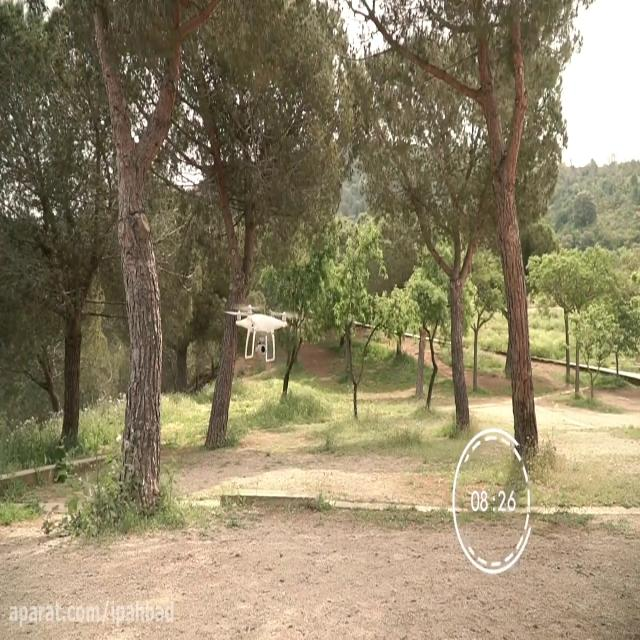drone: (222, 302, 300, 364)
